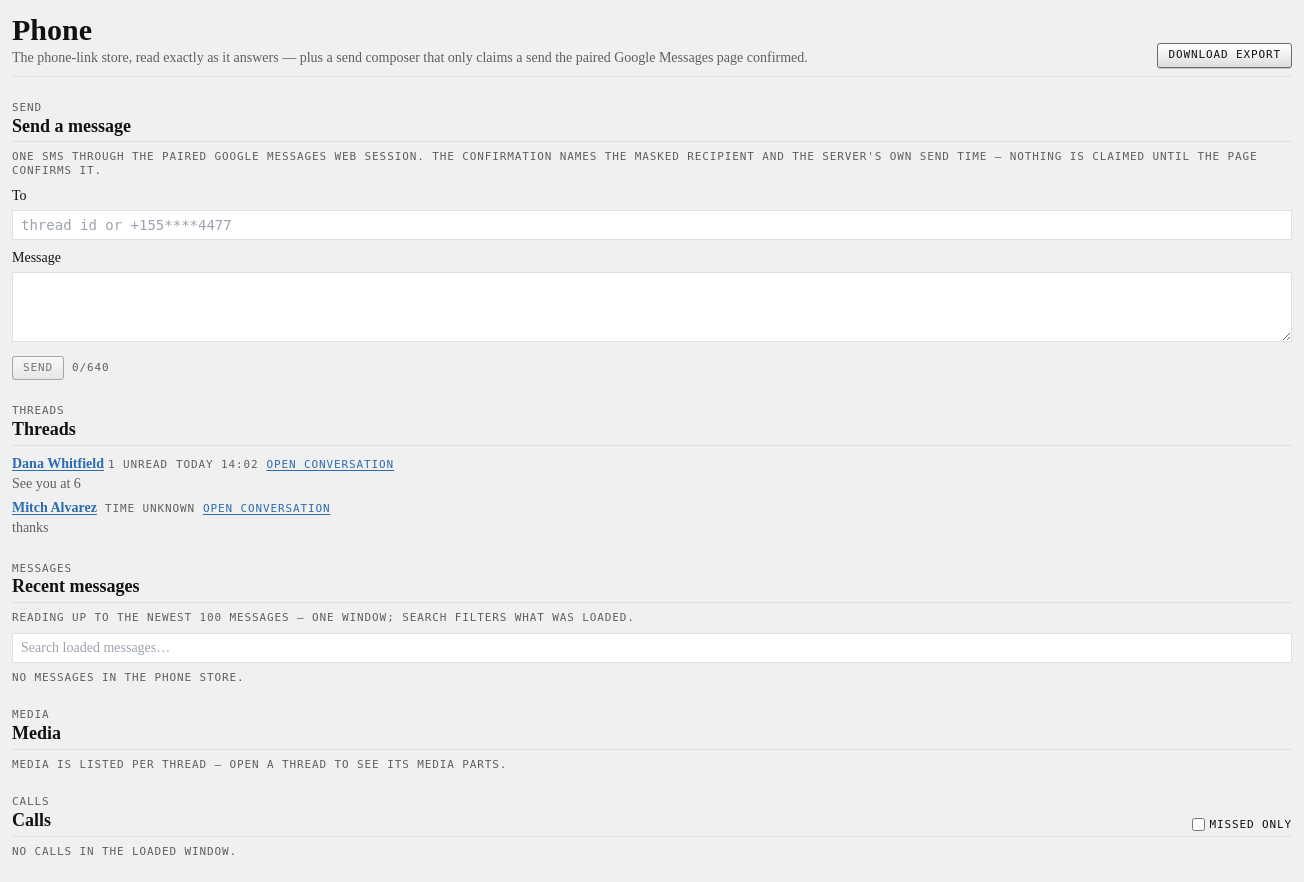
Test case: phone send composer — success claims only what the server observed › a result naming an unknown driver is refused, not displayed as a send
Type "11" into the field with test id "phone-send-to" at (652, 225), box [12, 210, 1292, 240]
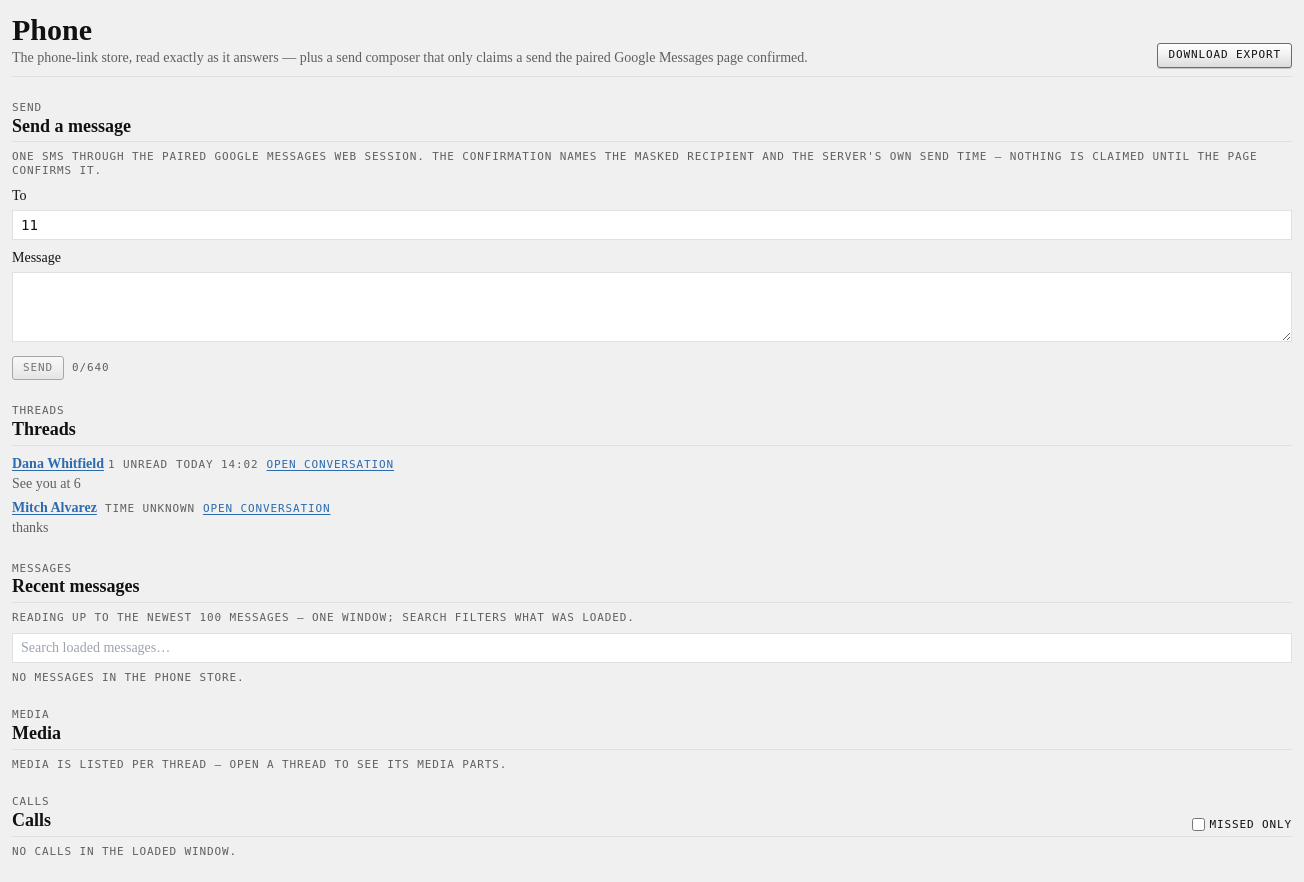
Type "Running late" into the text box with test id "phone-send-body" at (652, 307), box [12, 272, 1292, 342]
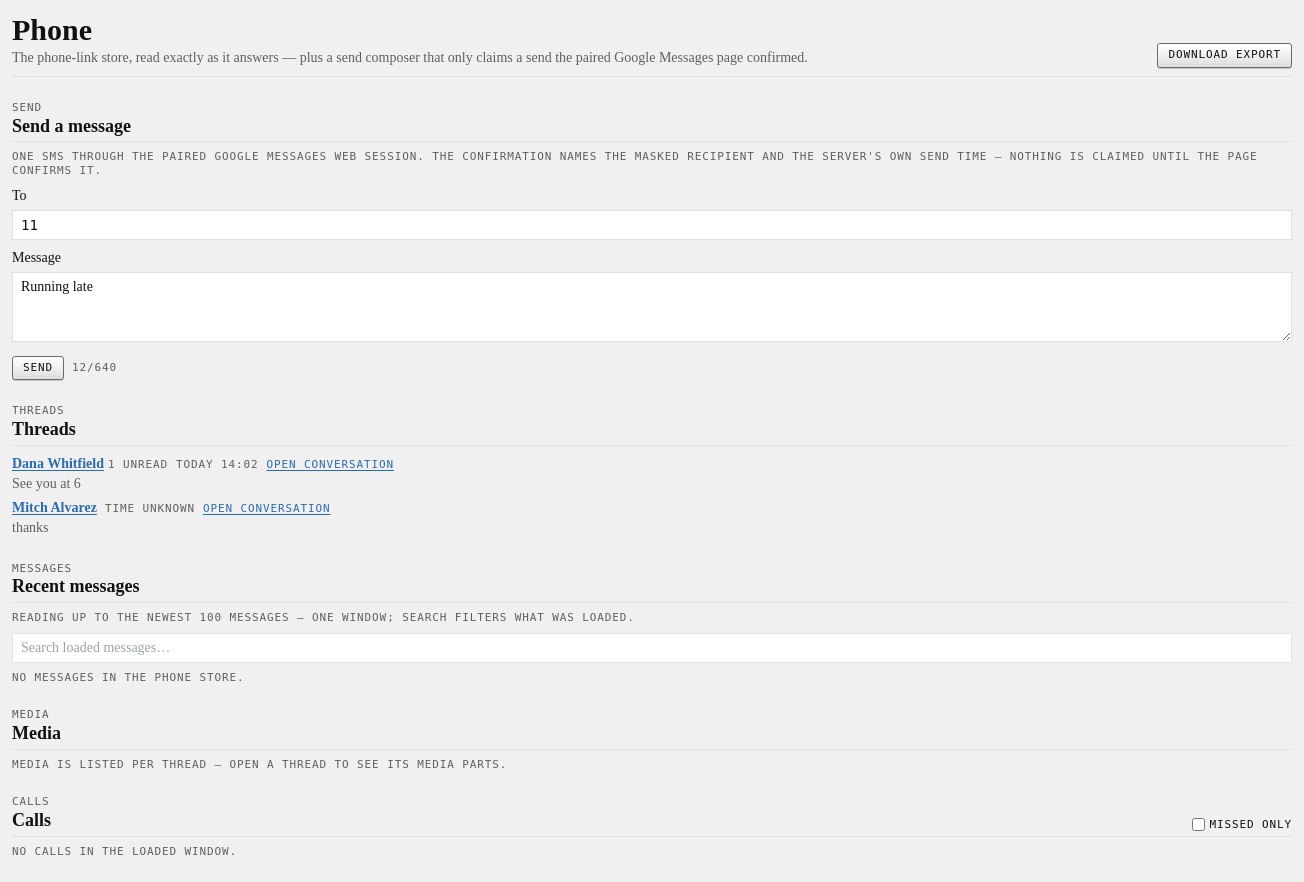
Click the button with test id "phone-send-submit" at (38, 368), box [12, 356, 64, 380]
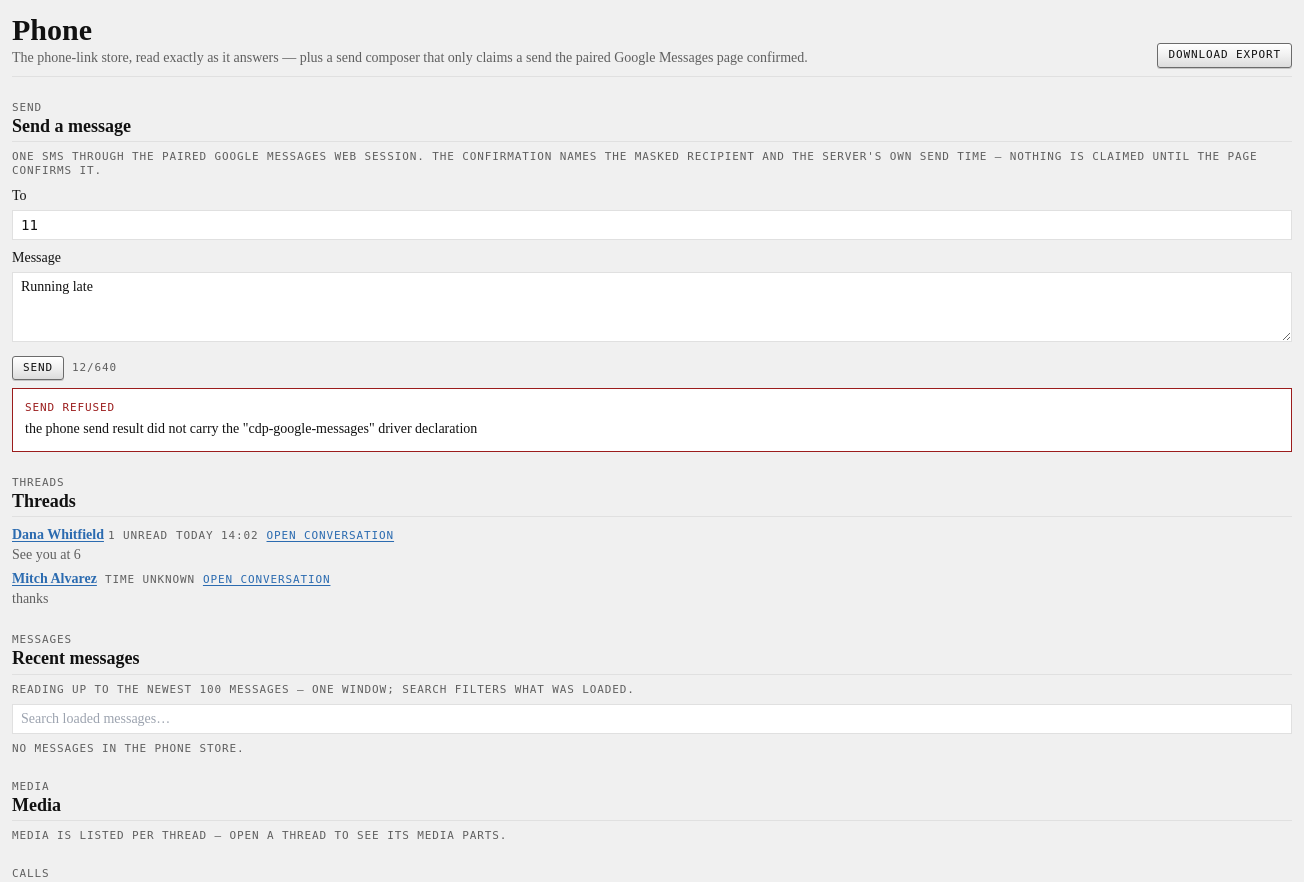
Now the message with test id "phone-send-error" shows "cdp-google-messages", box [25, 421, 477, 436]
